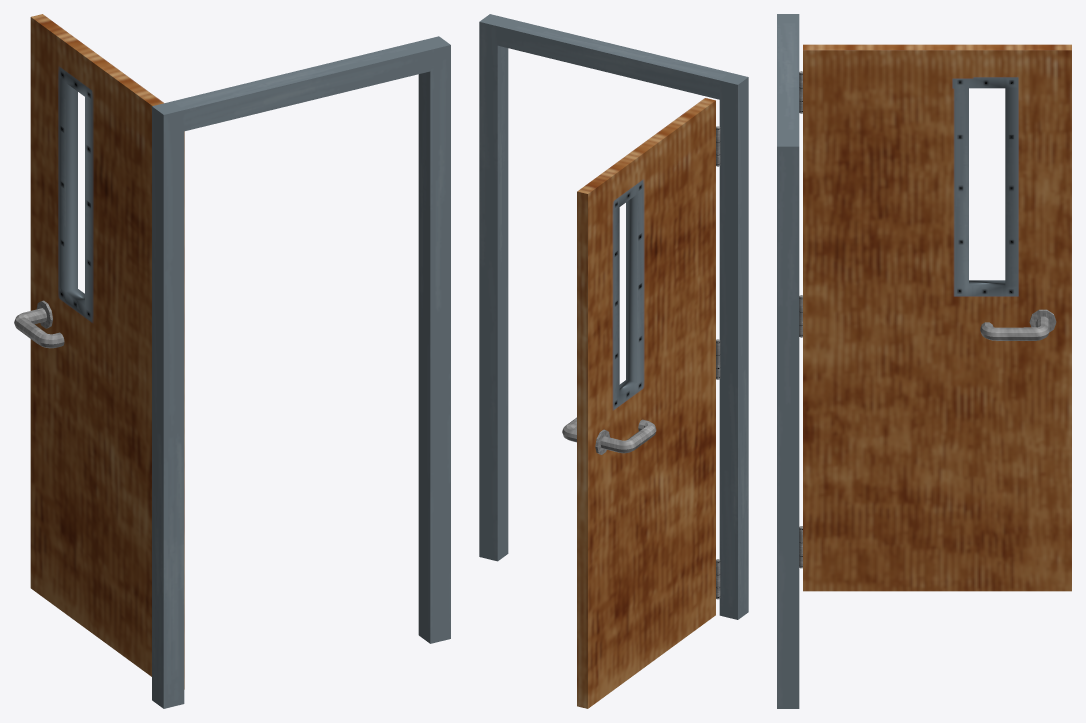
File: Bennett_Full_Open_Door 1.fbx
3 views of the same model, side by side, from view 1: azimuth 30°, elevation 25°; view 2: azimuth 150°, elevation 25°; view 3: azimuth 270°, elevation 25° (orthographic). The views are drawn at different scales.
Parts seen in each view (by area): view 1: Bennett_Full_Open_Door; view 2: Bennett_Full_Open_Door; view 3: Bennett_Full_Open_Door.
Part boxes in pixels (left/top/right/bottom): Bennett_Full_Open_Door: left=14, top=14, right=450, bottom=708; Bennett_Full_Open_Door: left=479, top=14, right=748, bottom=708; Bennett_Full_Open_Door: left=777, top=14, right=1071, bottom=708.
Size of the model in its own units: 3.64 by 6.92 by 3.29.
